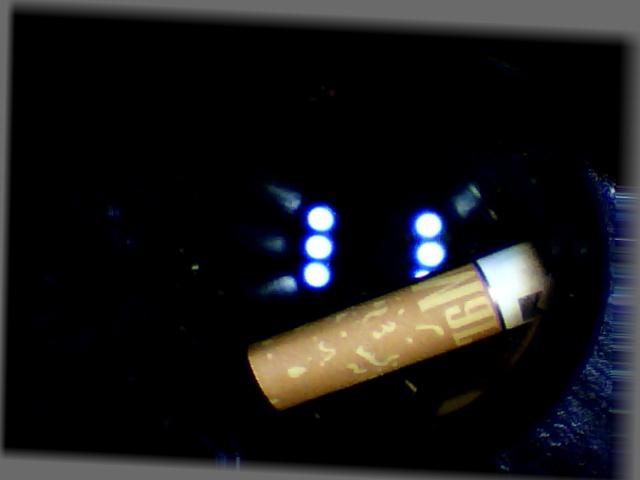megot: (235, 220, 572, 429)
